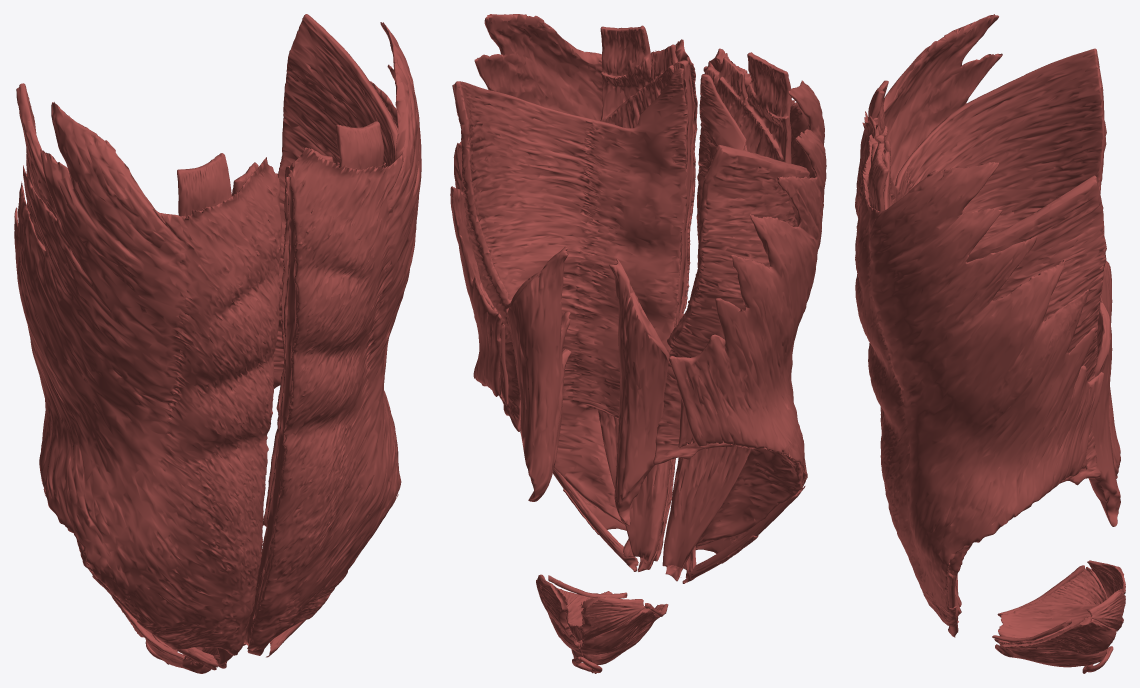
The model's file is abdomen-and-pelvis.glb.
3 renders of one model, left to right at view 1: azimuth 30°, elevation 25°; view 2: azimuth 150°, elevation 25°; view 3: azimuth 270°, elevation 25°, orthographic. The views are drawn at different scales.
Parts seen in each view (by area): view 1: FMA13336, FMA13337, FMA22345, FMA13378, FMA13377, FMA22344, FMA13893, FMA21964, FMA45856; view 2: FMA22345, FMA13336, FMA22344, FMA13337, FMA13377, FMA13378, FMA22349, FMA22348, FMA13893, FMA46443, FMA45858, FMA21964 (+6 smaller); view 3: FMA13337, FMA22344, FMA22345, FMA13336, FMA22349, FMA45854, FMA45859, FMA45857, FMA45858, FMA13378, FMA22348, FMA46444 (+3 smaller).
Boxes of the visible parts, x1,y1,x2,y2 form: FMA13336: (14,102,281,655); FMA13337: (248,22,421,651); FMA22345: (247,14,397,655); FMA13378: (244,121,384,646); FMA13377: (177,153,258,216); FMA22344: (16,83,232,665); FMA13893: (247,161,297,648); FMA21964: (87,562,218,670); FMA45856: (145,638,210,673); FMA22345: (452,68,687,571); FMA13336: (669,48,826,563); FMA22344: (653,74,809,581); FMA13337: (450,14,697,559); FMA13377: (662,52,791,568); FMA13378: (598,25,692,562); FMA22349: (507,246,571,501); FMA22348: (609,258,669,525); FMA13893: (479,56,695,561); FMA46443: (580,597,644,642); FMA45858: (580,605,659,654); FMA21964: (682,474,805,583); FMA13337: (855,134,1103,626); FMA22344: (884,48,1106,241); FMA22345: (883,151,1106,632); FMA13336: (855,14,1002,433); FMA22349: (1088,298,1120,526); FMA45854: (998,602,1099,642); FMA45859: (1015,615,1116,654); FMA45857: (995,642,1106,667); FMA45858: (1035,567,1107,604); FMA13378: (867,143,961,620); FMA22348: (1101,260,1120,478); FMA46444: (1087,588,1125,631).
Bounding box in the file's own units: 0.2776 × 0.4669 × 0.1958.
